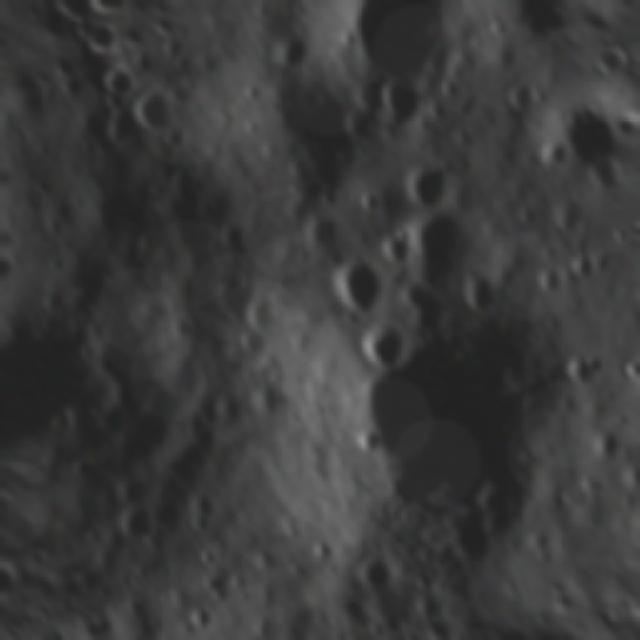crater: (342, 314, 573, 537), (330, 0, 478, 97), (389, 192, 493, 300), (326, 244, 405, 325), (394, 143, 471, 225), (365, 68, 437, 144), (124, 77, 185, 146), (235, 282, 300, 346), (353, 314, 415, 380), (345, 544, 403, 608), (87, 394, 142, 451), (556, 341, 610, 399), (586, 414, 640, 472), (293, 526, 347, 582), (112, 498, 165, 554), (565, 236, 617, 292), (496, 67, 546, 122), (178, 598, 228, 640), (607, 339, 640, 393), (529, 262, 566, 303), (618, 457, 640, 506), (0, 217, 9, 289)
